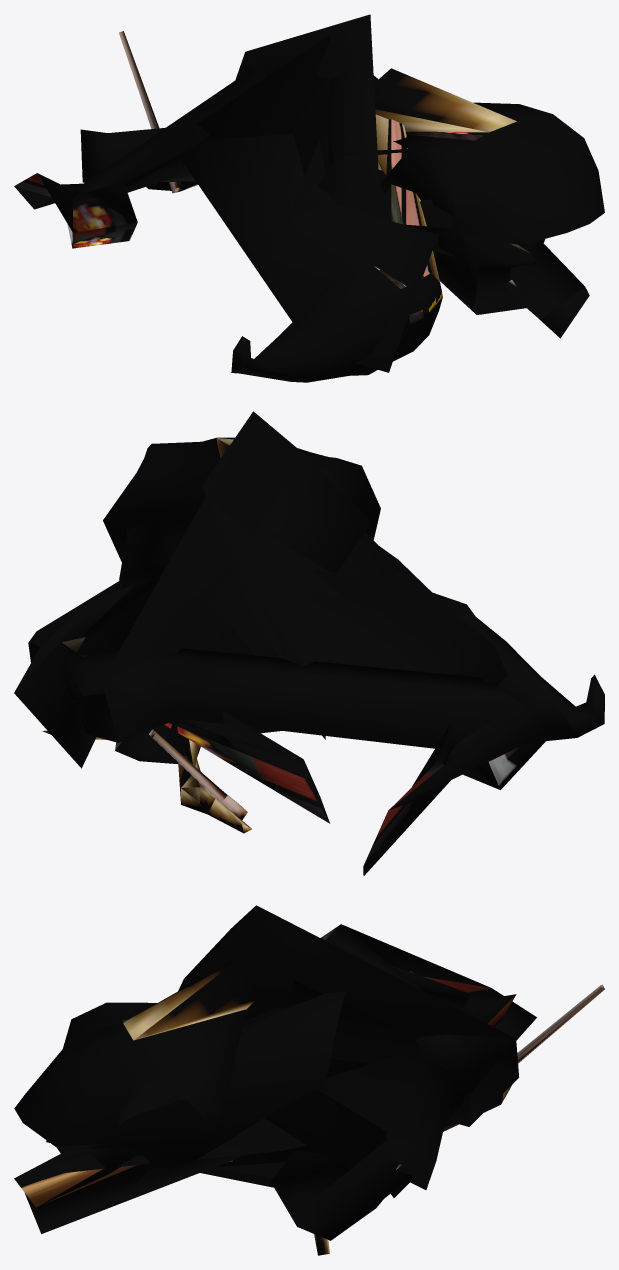
3 views of the same model, one above another, from view 1: azimuth 30°, elevation 25°; view 2: azimuth 150°, elevation 25°; view 3: azimuth 270°, elevation 25° (orthographic). The views are drawn at different scales.
Visible parts, largest first — view 1: T1L7M002_4; view 2: T1L7M002_4; view 3: T1L7M002_4.
Boxes of the visible parts, <box> form: T1L7M002_4: <box>14,14,604,382</box>; T1L7M002_4: <box>14,411,604,875</box>; T1L7M002_4: <box>14,905,604,1255</box>.
Bounding box in the file's own units: 1.2 × 0.7732 × 1.35.
